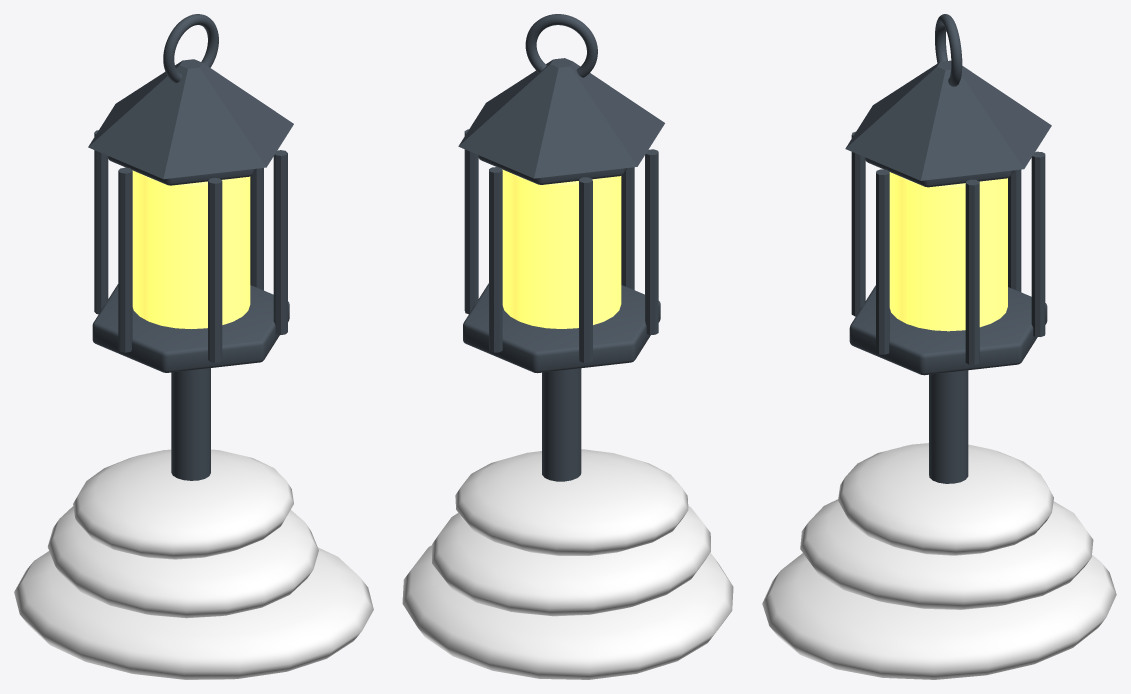
File: beacon-lit.glb
3 views of the same model, side by side, from view 1: azimuth 30°, elevation 25°; view 2: azimuth 150°, elevation 25°; view 3: azimuth 270°, elevation 25° (orthographic).
Visible parts, largest first — view 1: titan.beacon.stone.0, titan.beacon.stone.2, titan.beacon.stone.1, titan.beacon.roof, titan.beacon.flame-glass, titan.beacon.cage-base, titan.beacon.pole, titan.beacon.bar.4, titan.beacon.bar.3, titan.beacon.bar.5, titan.beacon.bar.2, titan.beacon.bar.0 (+2 smaller); view 2: titan.beacon.stone.0, titan.beacon.stone.2, titan.beacon.stone.1, titan.beacon.roof, titan.beacon.flame-glass, titan.beacon.cage-base, titan.beacon.pole, titan.beacon.bar.1, titan.beacon.bar.2, titan.beacon.bar.3, titan.beacon.bar.0, titan.beacon.handle (+2 smaller); view 3: titan.beacon.stone.0, titan.beacon.stone.1, titan.beacon.stone.2, titan.beacon.roof, titan.beacon.flame-glass, titan.beacon.cage-base, titan.beacon.pole, titan.beacon.bar.0, titan.beacon.bar.1, titan.beacon.bar.5, titan.beacon.bar.4, titan.beacon.bar.2 (+2 smaller).
Part boxes in pixels (x1,y1,x2,y2): titan.beacon.stone.0: [14, 547, 373, 679]; titan.beacon.stone.2: [73, 449, 293, 559]; titan.beacon.stone.1: [47, 506, 318, 618]; titan.beacon.roof: [88, 59, 293, 179]; titan.beacon.flame-glass: [132, 170, 250, 328]; titan.beacon.cage-base: [92, 284, 289, 372]; titan.beacon.pole: [171, 368, 210, 480]; titan.beacon.bar.4: [208, 178, 222, 362]; titan.beacon.bar.3: [118, 167, 132, 352]; titan.beacon.bar.5: [273, 150, 287, 334]; titan.beacon.bar.2: [94, 130, 108, 314]; titan.beacon.bar.0: [250, 168, 263, 290]; titan.beacon.stone.0: [402, 545, 733, 679]; titan.beacon.stone.2: [455, 449, 688, 555]; titan.beacon.stone.1: [432, 506, 710, 616]; titan.beacon.roof: [458, 58, 664, 178]; titan.beacon.flame-glass: [502, 169, 621, 328]; titan.beacon.cage-base: [463, 283, 660, 373]; titan.beacon.pole: [542, 368, 581, 481]; titan.beacon.bar.1: [489, 167, 502, 352]; titan.beacon.bar.2: [579, 177, 592, 362]; titan.beacon.bar.3: [645, 149, 658, 334]; titan.beacon.bar.0: [464, 129, 478, 314]; titan.beacon.handle: [525, 14, 597, 77]; titan.beacon.stone.0: [762, 553, 1116, 679]; titan.beacon.stone.1: [800, 499, 1093, 609]; titan.beacon.stone.2: [838, 443, 1053, 555]; titan.beacon.roof: [845, 60, 1051, 180]; titan.beacon.flame-glass: [889, 172, 1007, 331]; titan.beacon.cage-base: [849, 285, 1047, 375]; titan.beacon.pole: [929, 370, 968, 483]; titan.beacon.bar.0: [965, 179, 979, 364]; titan.beacon.bar.1: [1031, 151, 1045, 336]; titan.beacon.bar.5: [876, 169, 889, 354]; titan.beacon.bar.4: [851, 131, 865, 316]; titan.beacon.bar.2: [1008, 169, 1021, 291].
Size of the model in its own units: 0.8695 by 1.73 by 0.8943.
